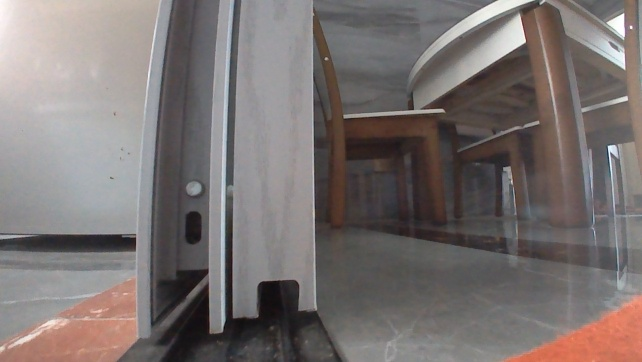dining_table: (312, 0, 641, 235)
